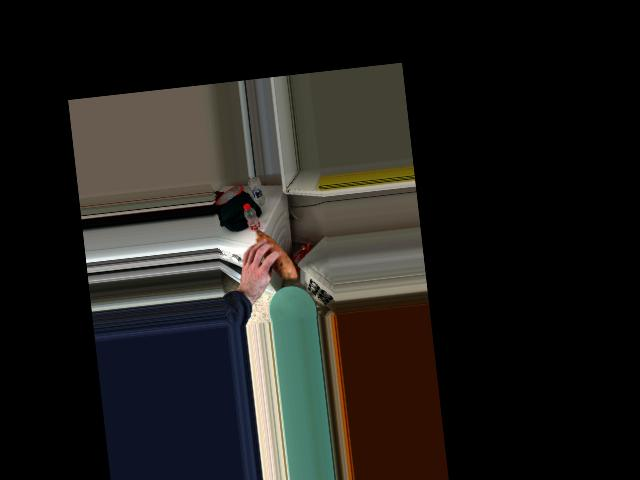sweet_potato: (248, 227, 296, 276)
